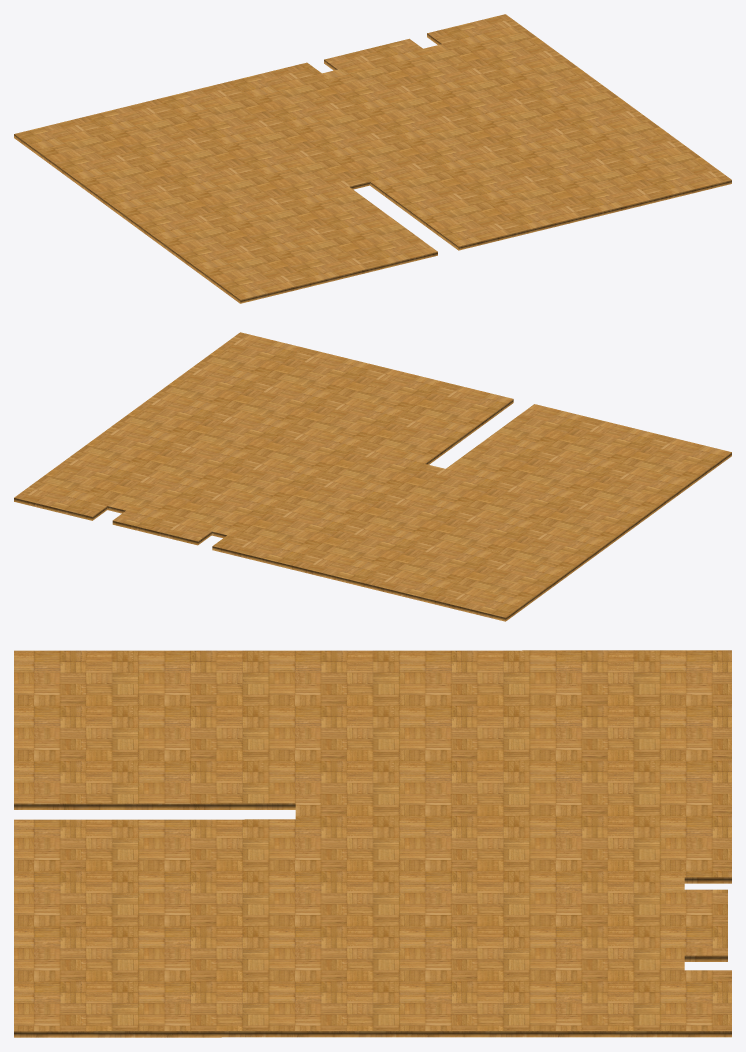
File: Floor_e769030d.obj
3 renders of one model, top to bottom at view 1: azimuth 30°, elevation 25°; view 2: azimuth 150°, elevation 25°; view 3: azimuth 270°, elevation 25°, orthographic. The views are drawn at different scales.
Parts seen in each view (by area): view 1: mesh_2bfb6e21; view 2: mesh_2bfb6e21; view 3: mesh_2bfb6e21.
Part boxes in pixels (x1,y1,x2,y2): mesh_2bfb6e21: (14, 14, 731, 303); mesh_2bfb6e21: (14, 332, 731, 621); mesh_2bfb6e21: (14, 650, 731, 1037).
Bounding box in the file's own units: 6.9 × 0.0558 × 5.51.
